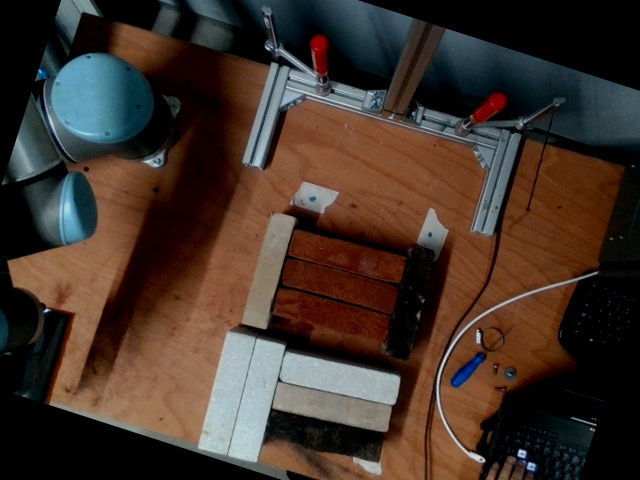brick-side: (201, 335, 253, 456), (230, 342, 281, 463), (275, 289, 389, 340), (283, 261, 397, 311), (243, 214, 293, 327), (283, 355, 398, 403), (268, 412, 383, 460), (290, 235, 404, 282), (275, 384, 389, 431), (387, 248, 433, 362)
